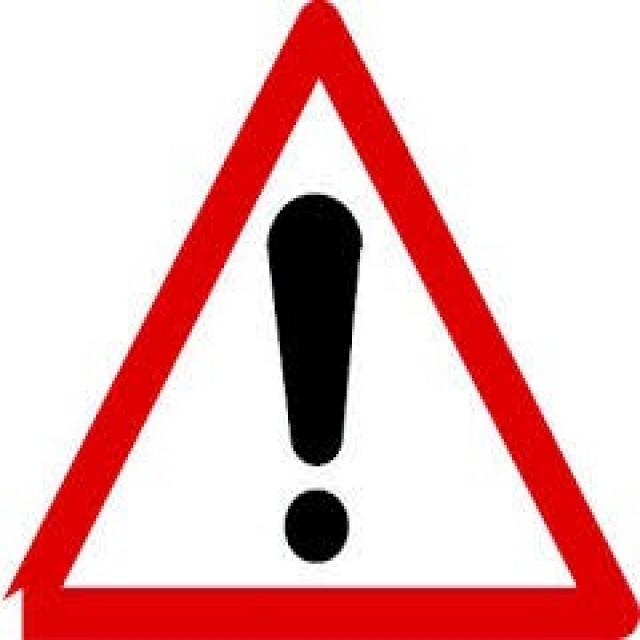warning: (8, 0, 640, 640)
